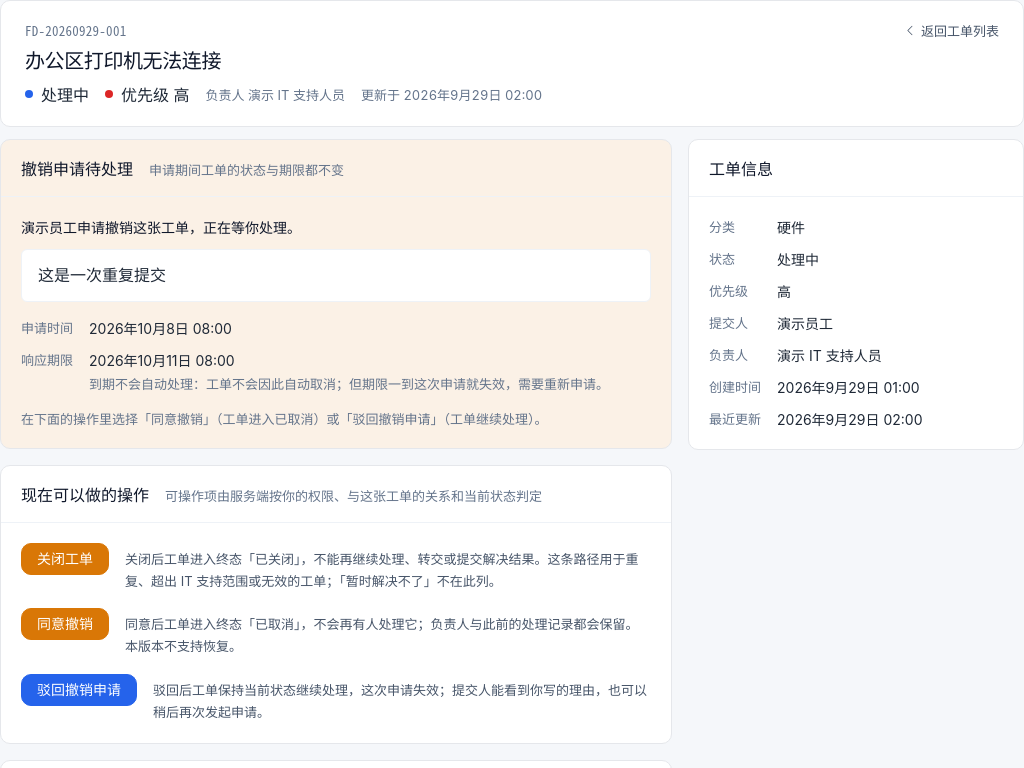
Test: TicketDetailView › 负责人视角：读到提交人的理由，同意撤销只发版本号并进入已取消
This screenshot has width=1024, height=768.
Expected: the element with class "ticket-cancel-request" is shown, [0,139,672,449]
Expected: the element with class "ticket-cancel-request" shows "演示员工申请撤销这张工单，正在等你处理。", [21,219,301,236]
Click the button "同意撤销": [65, 624] box [21,608,109,640]
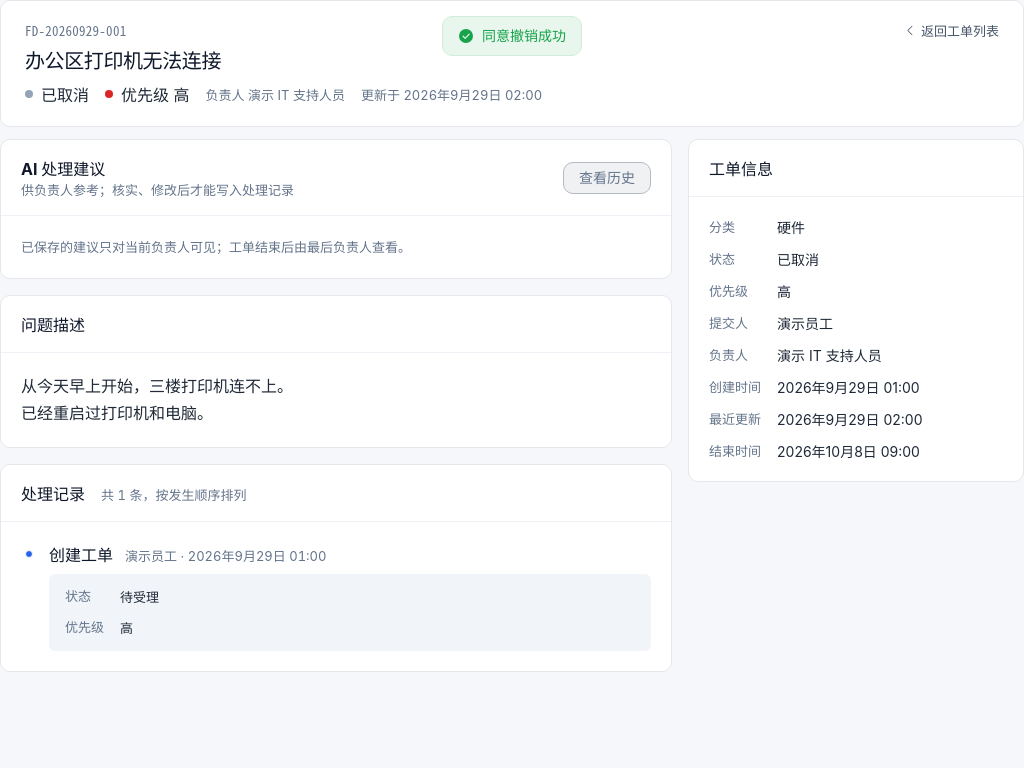
Now the element with class "ticket-hero" shows "已取消", box [41,85,89,105]
